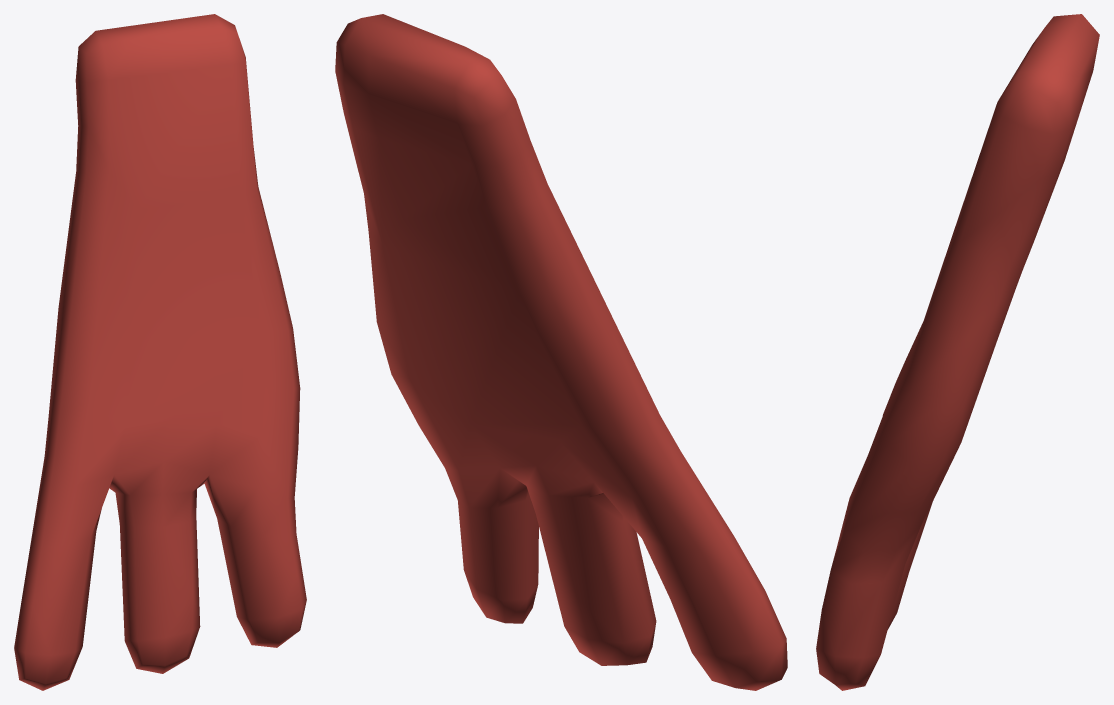
Rendered from musculos-tendon-sheath-of-extensor-digitorum-and-extensor-indicis-r.glb.
The picture shows the model from 3 angles, left to right: view 1: azimuth 30°, elevation 25°; view 2: azimuth 150°, elevation 25°; view 3: azimuth 270°, elevation 25°; orthographic projection. The views are drawn at different scales.
Visible parts, largest first — view 1: Tendon sheath of extensor digitorum and extensor indicis.r; view 2: Tendon sheath of extensor digitorum and extensor indicis.r; view 3: Tendon sheath of extensor digitorum and extensor indicis.r.
Boxes of the visible parts, left/top/right/bottom form: Tendon sheath of extensor digitorum and extensor indicis.r: left=14, top=14, right=306, bottom=690; Tendon sheath of extensor digitorum and extensor indicis.r: left=335, top=14, right=787, bottom=690; Tendon sheath of extensor digitorum and extensor indicis.r: left=816, top=14, right=1099, bottom=690.
Size of the model in its own units: 0.027 by 0.0483 by 0.0192.
